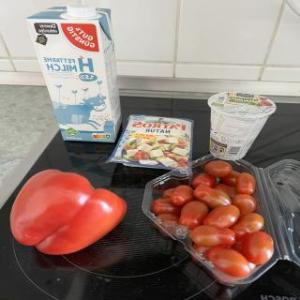bell_pepper: (11, 166, 127, 260)
tomato: (148, 158, 270, 278)
